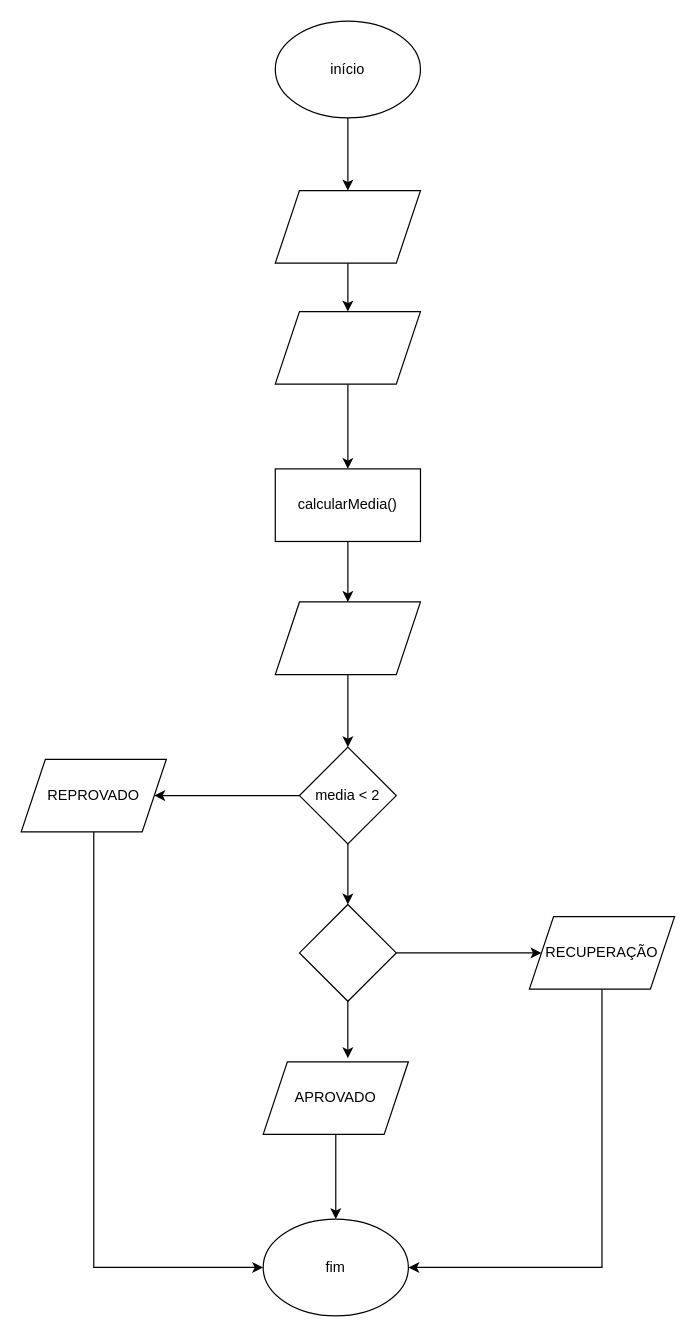
The diagram is 696 pixels wide and 1337 high, and some of its shapes have lost their labels. The shapes that lost their labels are listed below. From the top down, each one's box as (x1, y1, x2, y2) in pixels, then its label:
(274, 189, 420, 263): nota1
(274, 310, 420, 384): nota2
(274, 601, 420, 675): media
(298, 903, 396, 1001): media < 5
